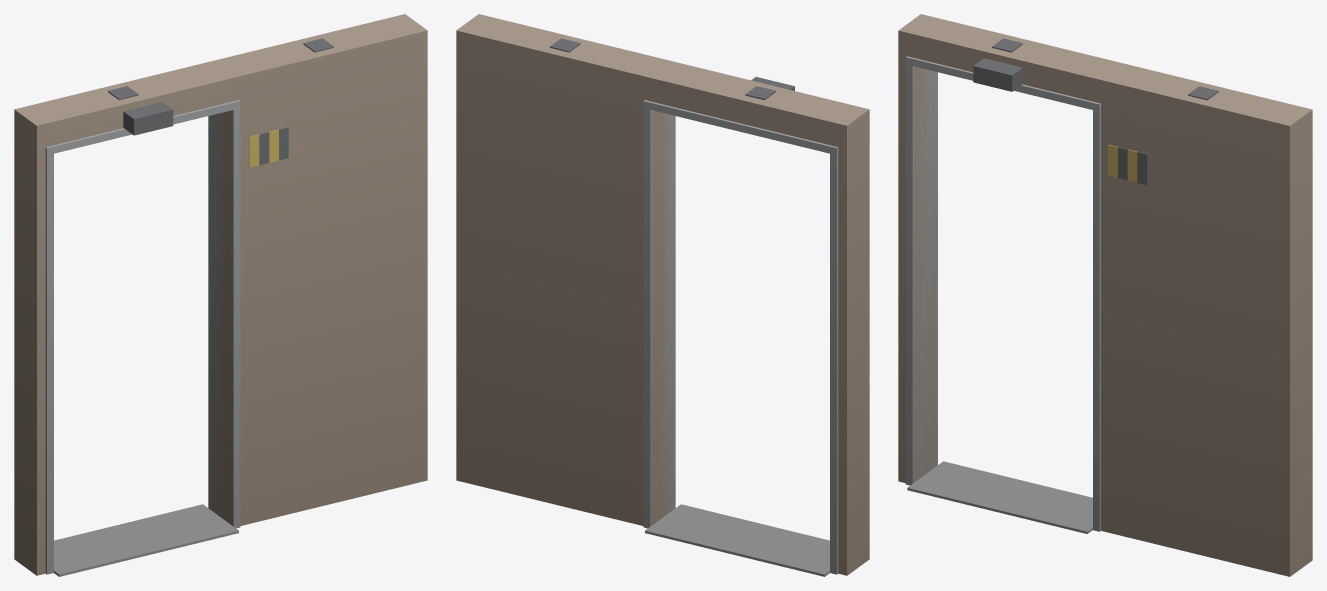
Rendered from doorWall_regocrete.glb.
3 renders of one model, left to right at view 1: azimuth 30°, elevation 25°; view 2: azimuth 150°, elevation 25°; view 3: azimuth 330°, elevation 25°, orthographic.
Parts seen in each view (by area): view 1: doorWall_regocrete; view 2: doorWall_regocrete; view 3: doorWall_regocrete.
Part boxes in pixels (x1,y1,x2,y2): doorWall_regocrete: (14, 14, 427, 576); doorWall_regocrete: (456, 14, 869, 576); doorWall_regocrete: (898, 14, 1312, 576).
Bounding box in the file's own units: 2 × 2.21 × 0.36.
